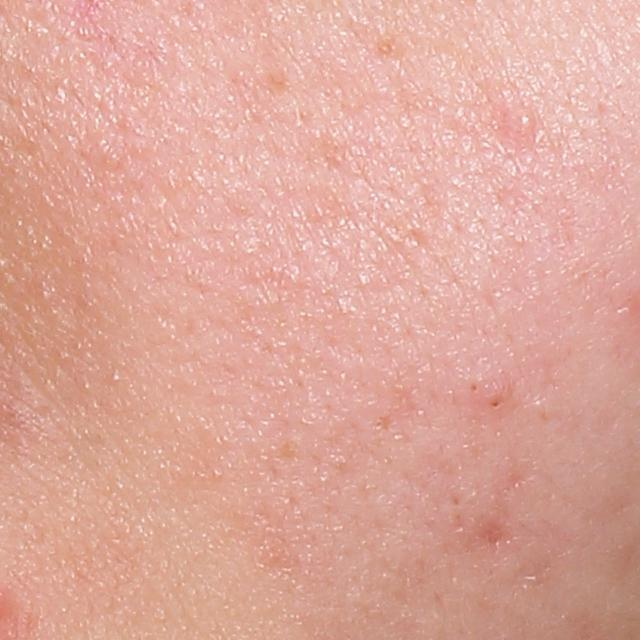comedo: (486, 393, 507, 413), (466, 379, 482, 396)
